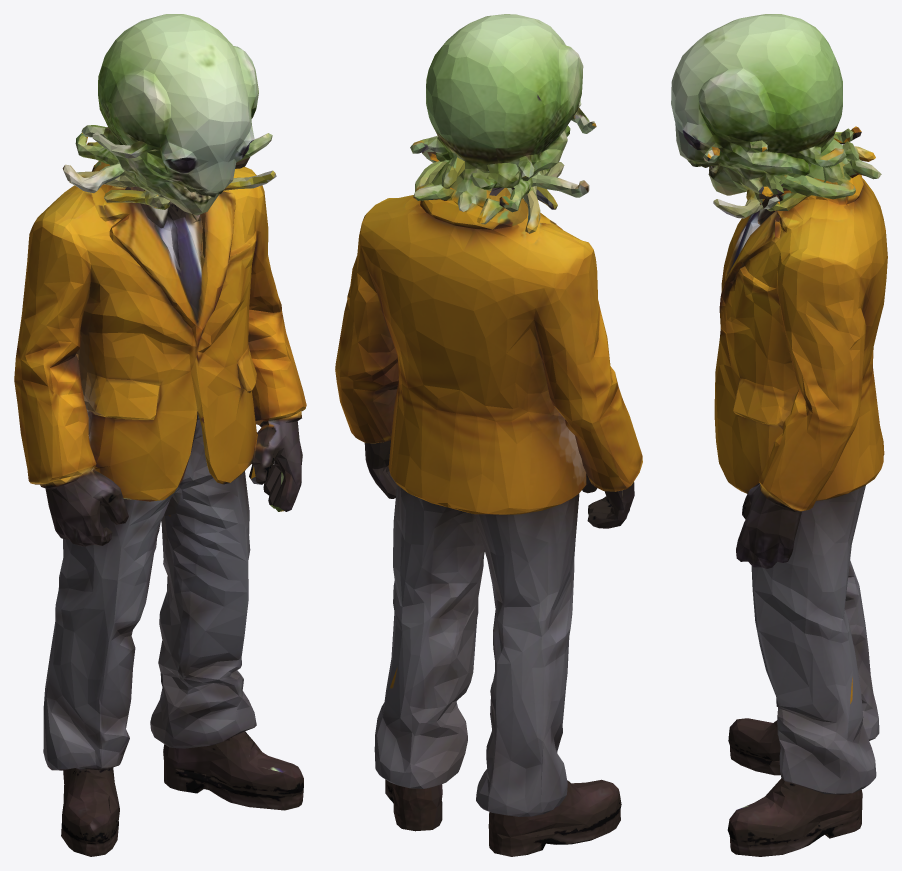
The picture shows the model from 3 angles, left to right: view 1: azimuth 30°, elevation 25°; view 2: azimuth 150°, elevation 25°; view 3: azimuth 270°, elevation 25°; orthographic projection. The views are drawn at different scales.
Parts seen in each view (by area): view 1: figure; view 2: figure; view 3: figure.
Part boxes in pixels (box(x1,y1,x2,y2)): figure: box(14, 14, 306, 856); figure: box(335, 14, 642, 856); figure: box(671, 14, 887, 856).
Size of the model in its own units: 0.4357 by 1.2 by 0.3024.
1 material, 1 textured.
